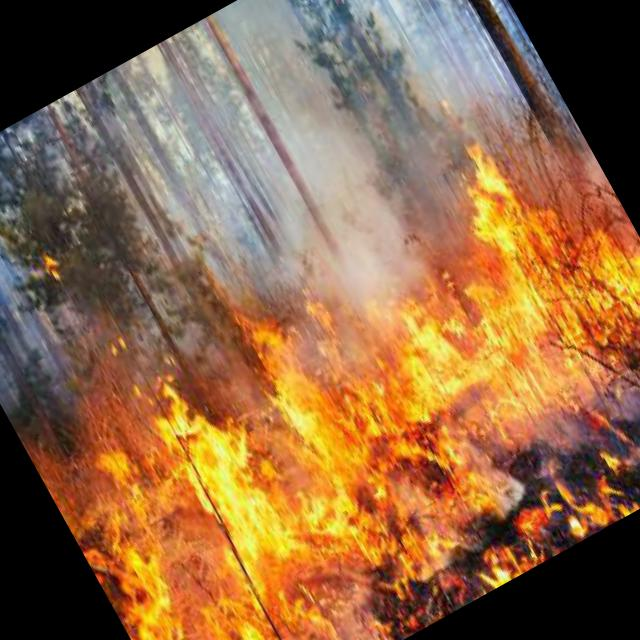fire: (2, 97, 640, 640)
